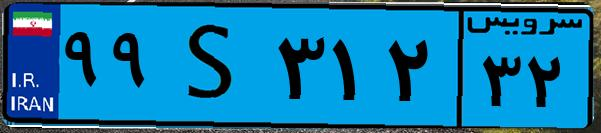1: (330, 28, 385, 110)
2: (385, 28, 445, 110), (525, 38, 570, 115)
3: (270, 28, 330, 110), (475, 38, 525, 113)
9: (57, 26, 110, 100), (110, 28, 158, 98)
S: (158, 12, 270, 120)
